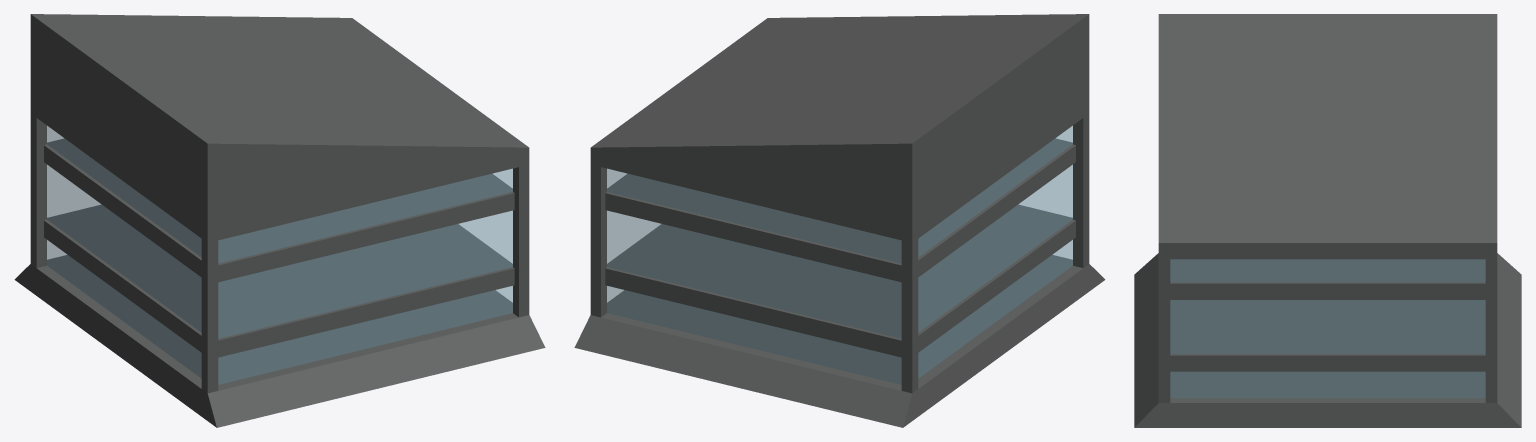
Rendered from Skyscrapers(3).glb.
3 renders of one model, left to right at view 1: azimuth 30°, elevation 25°; view 2: azimuth 150°, elevation 25°; view 3: azimuth 270°, elevation 25°, orthographic. The views are drawn at different scales.
Parts seen in each view (by area): view 1: Root; view 2: Root; view 3: Root.
Boxes of the visible parts, left/top/right/bottom form: Root: left=14, top=14, right=545, bottom=427; Root: left=574, top=14, right=1105, bottom=427; Root: left=1134, top=14, right=1521, bottom=427.
Bounding box in the file's own units: 4.67 × 3.72 × 4.98.
